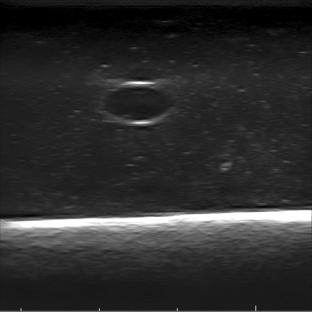vessel: (99, 80, 176, 125)
